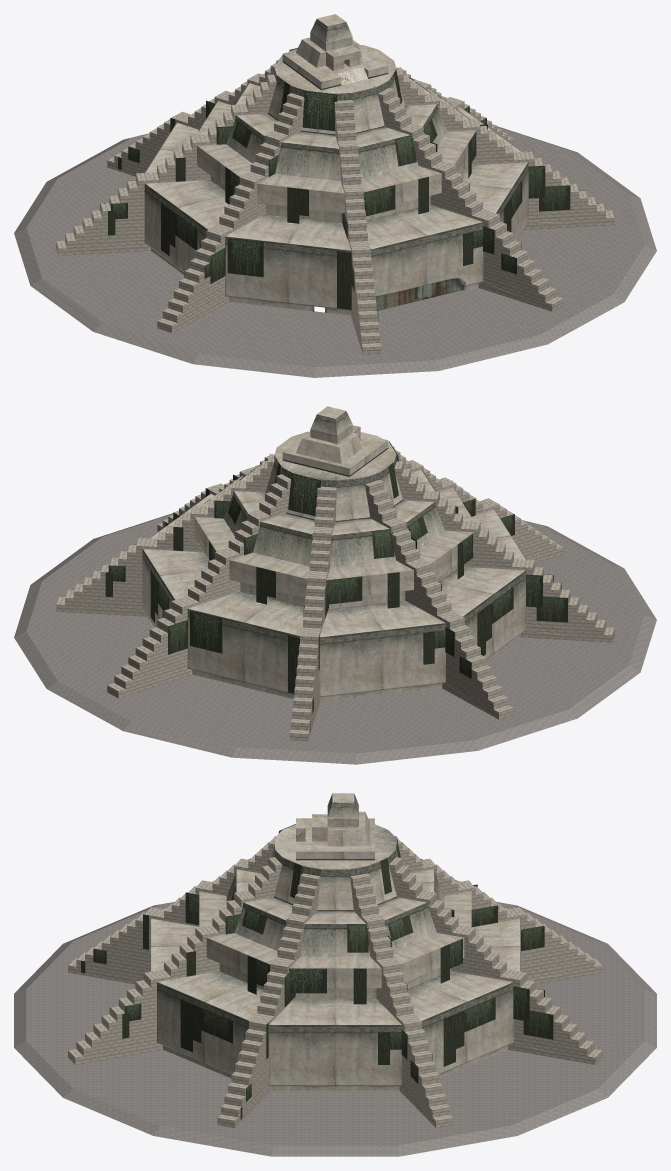
The model's file is thm_yavn_great_massassi_temple_r0_mesh_r0_l0.fbx.
3 views of the same model, one above another, from view 1: azimuth 30°, elevation 25°; view 2: azimuth 150°, elevation 25°; view 3: azimuth 270°, elevation 25° (orthographic).
Visible parts, largest first — view 1: mesh_node; view 2: mesh_node; view 3: mesh_node.
Boxes of the visible parts, <box> form: mesh_node: <box>14,14,656,377</box>; mesh_node: <box>14,406,656,764</box>; mesh_node: <box>14,793,656,1156</box>.
Bounding box in the file's own units: 408 × 156 × 408.
